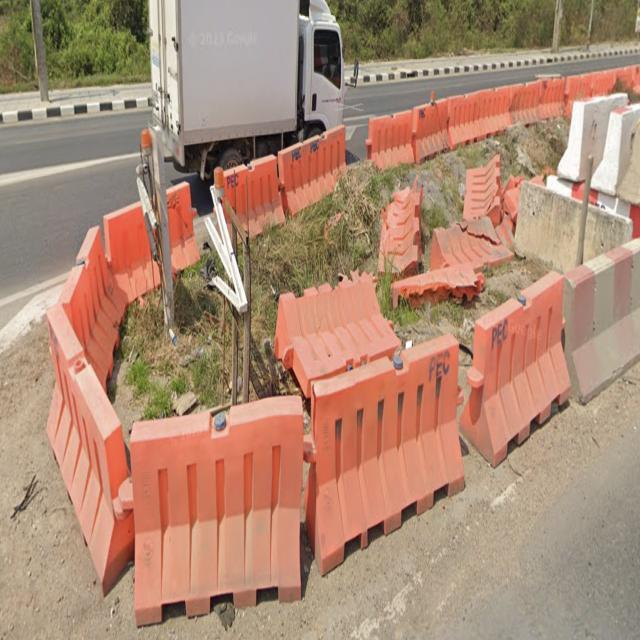fallen_object: (9, 306, 339, 593), (265, 332, 470, 553), (355, 159, 541, 305), (516, 226, 640, 431), (259, 247, 411, 394), (463, 276, 573, 470), (39, 176, 202, 303), (530, 103, 640, 266), (179, 127, 352, 227), (500, 49, 640, 113), (342, 96, 466, 164), (445, 73, 538, 146)
